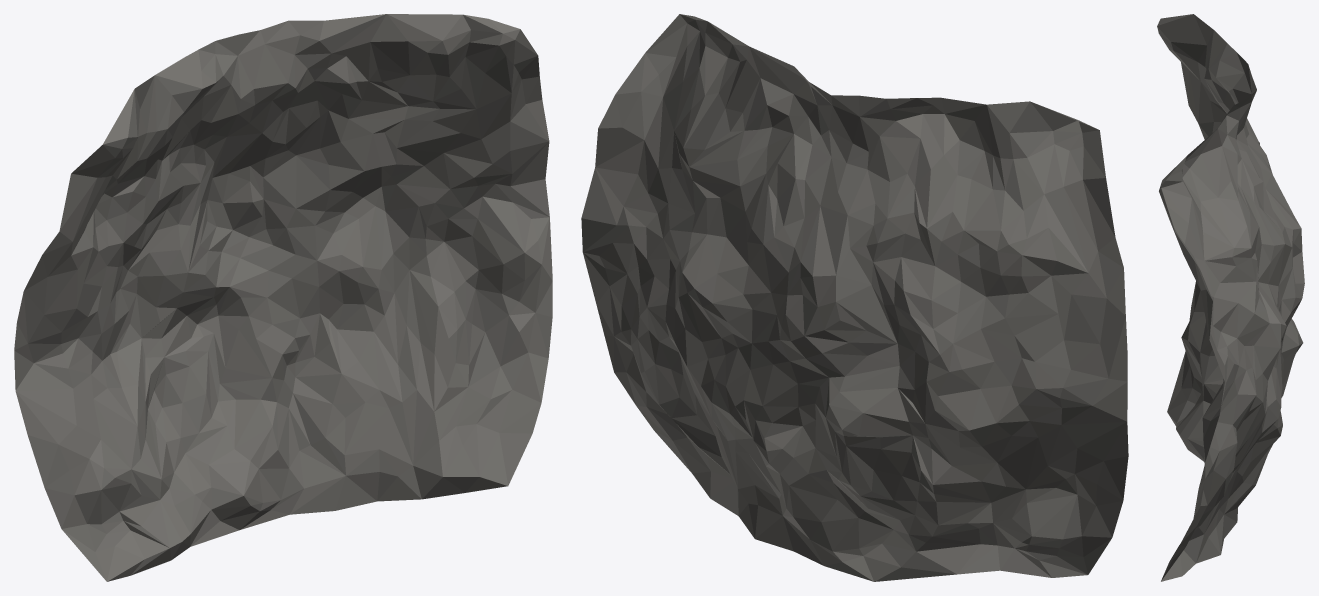
Rendered from SM_Env_Cave_Wall_Large_Corner_02.fbx.
3 renders of one model, left to right at view 1: azimuth 30°, elevation 25°; view 2: azimuth 150°, elevation 25°; view 3: azimuth 270°, elevation 25°, orthographic. The views are drawn at different scales.
Parts seen in each view (by area): view 1: SM_Env_Cave_Wall_Large_Corner_02; view 2: SM_Env_Cave_Wall_Large_Corner_02; view 3: SM_Env_Cave_Wall_Large_Corner_02.
Boxes of the visible parts, left/top/right/bottom form: SM_Env_Cave_Wall_Large_Corner_02: left=14, top=14, right=552, bottom=581; SM_Env_Cave_Wall_Large_Corner_02: left=581, top=14, right=1128, bottom=581; SM_Env_Cave_Wall_Large_Corner_02: left=1157, top=14, right=1304, bottom=581.
Bounding box in the file's own units: 1958 × 1709 × 527.
